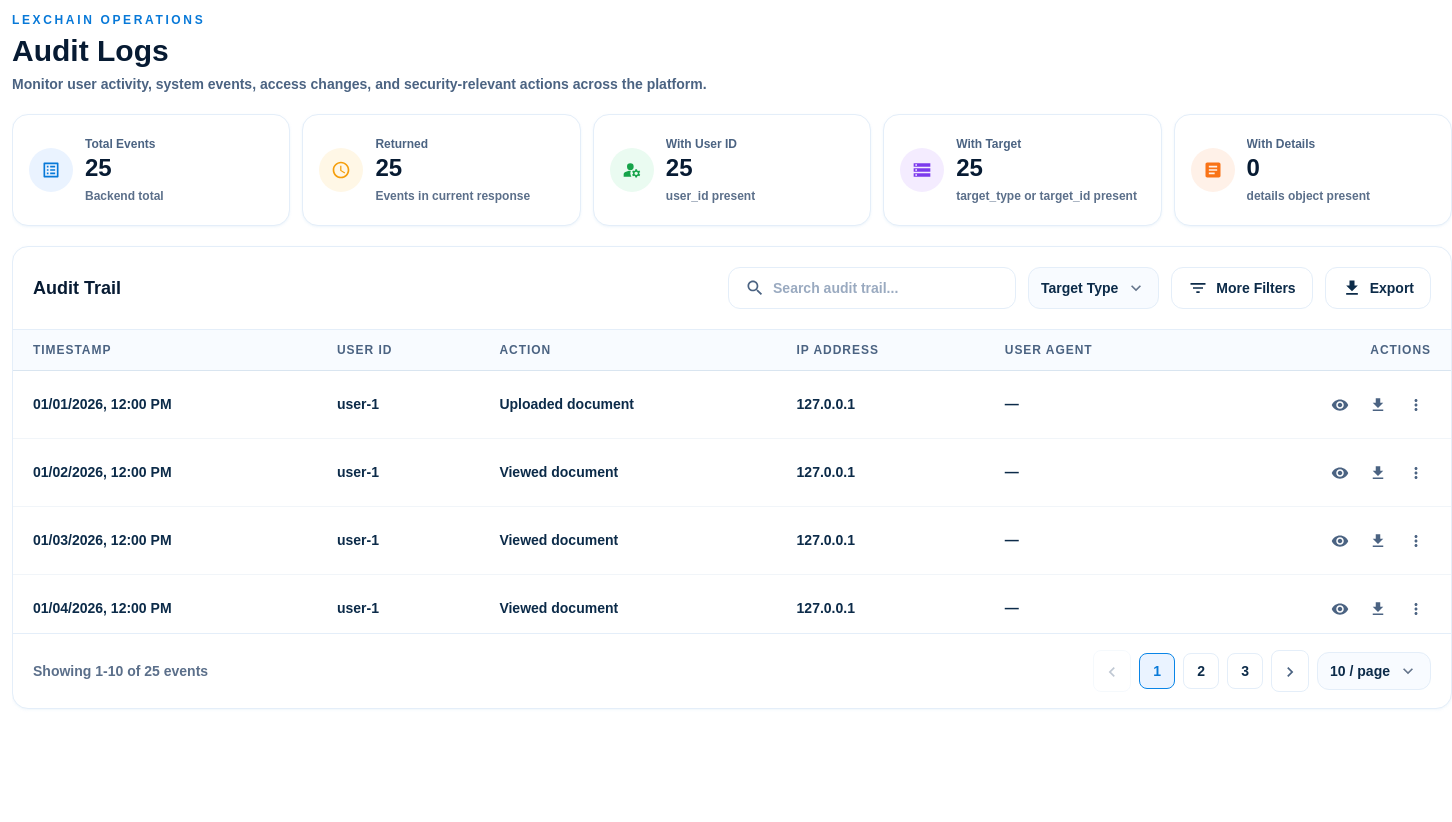
Test: shows an empty state for a search with no matching event
In the field with placeholder "Search audit trail...": (886, 288) [773,278,999,298], type "missing-event"
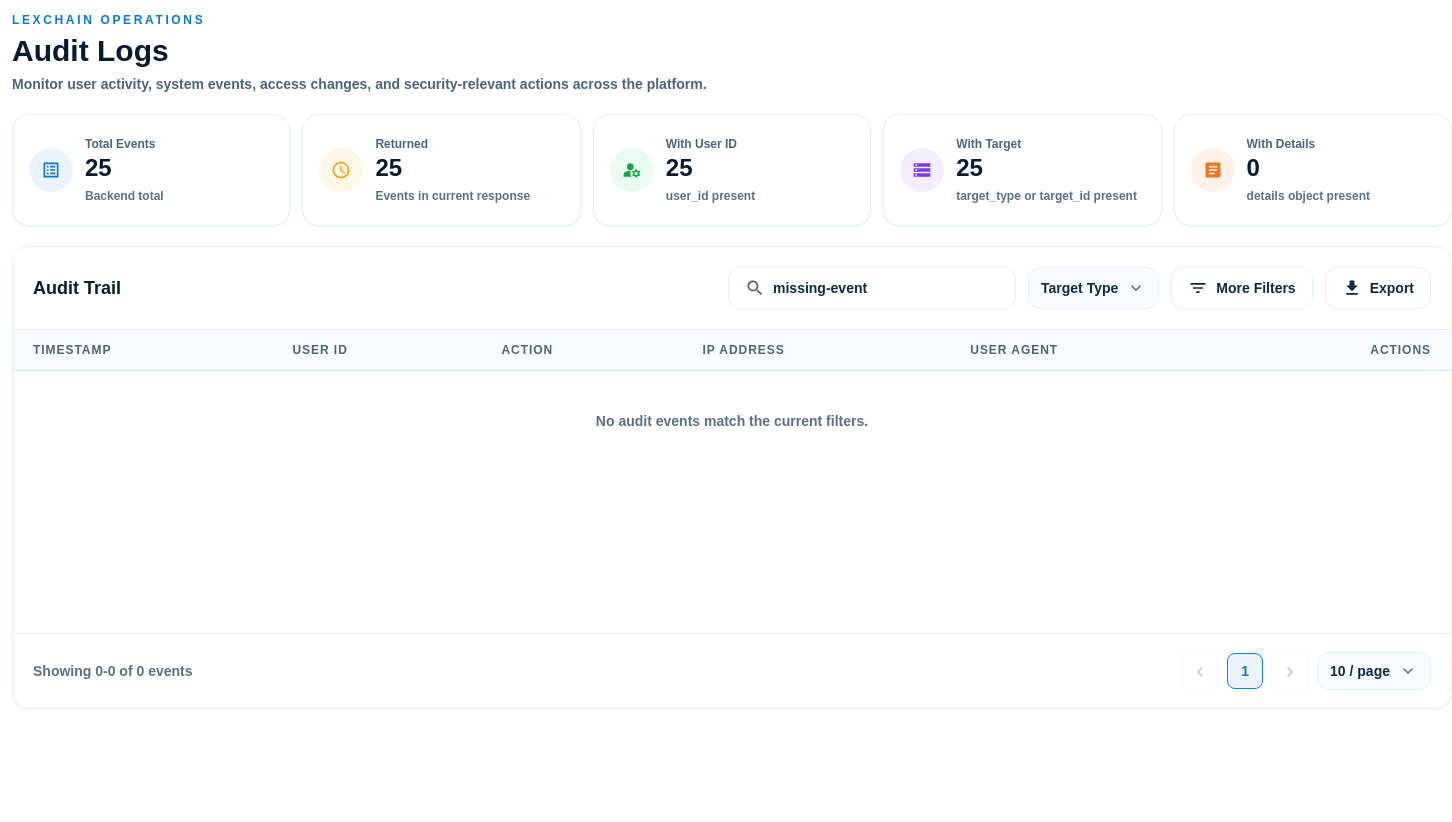
Check: the button named "Next page" is disabled, box [1271,650,1309,692]
Check: the text "No audit events match the current filters." is shown, box [13,370,1451,470]
